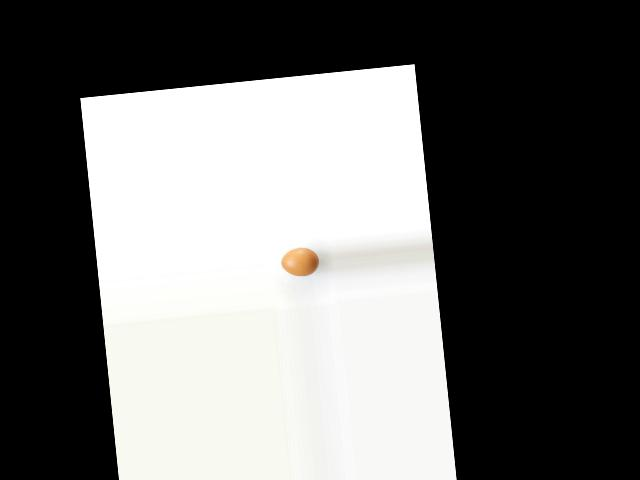egg: (279, 246, 321, 278)
